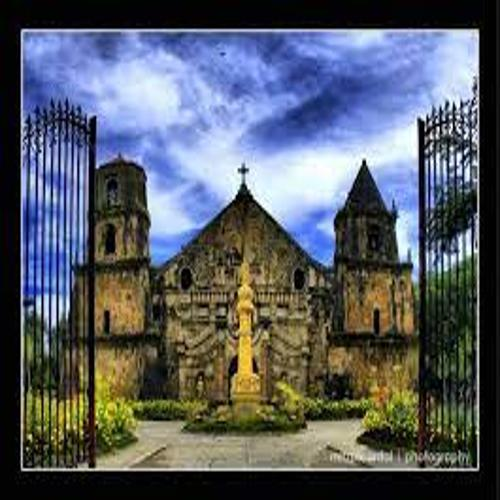Miagao Church: (74, 135, 418, 414)
